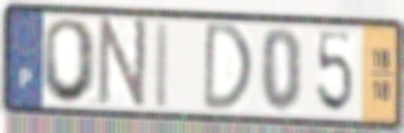0: (257, 24, 304, 115)
5: (312, 28, 356, 116)
D: (200, 20, 255, 114)
I: (151, 18, 172, 112)
N: (95, 14, 150, 114)
O: (40, 16, 100, 107)
